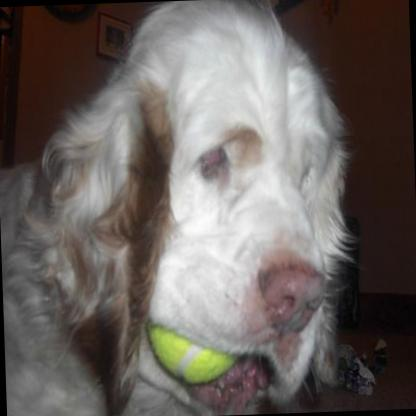clumber: (0, 0, 362, 416)
